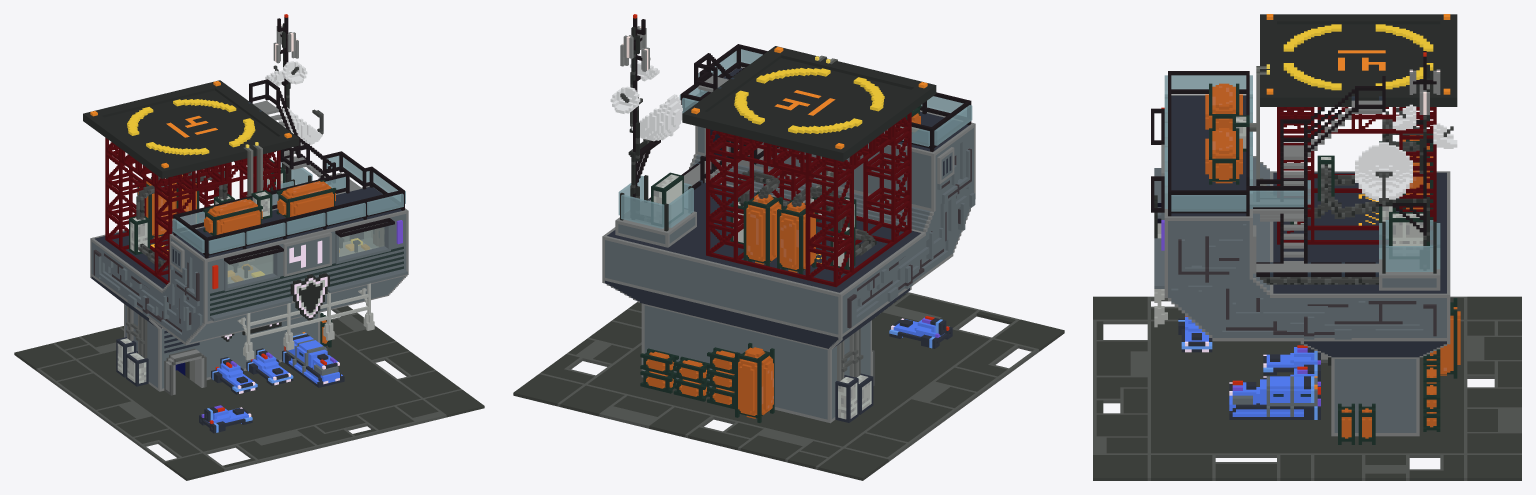
Rendered from almacen_lev3.glb.
3 views of the same model, side by side, from view 1: azimuth 30°, elevation 25°; view 2: azimuth 150°, elevation 25°; view 3: azimuth 270°, elevation 25° (orthographic). The views are drawn at different scales.
Visible parts, largest first — view 1: Object_2.001; view 2: Object_2.001; view 3: Object_2.001.
Part boxes in pixels (bbox=[...]): Object_2.001: bbox=[14, 14, 484, 480]; Object_2.001: bbox=[513, 14, 1064, 480]; Object_2.001: bbox=[1093, 14, 1521, 480].
Size of the model in its own units: 41.64 by 41.64 by 41.64.
Materials: 1 (1 with a texture image).
